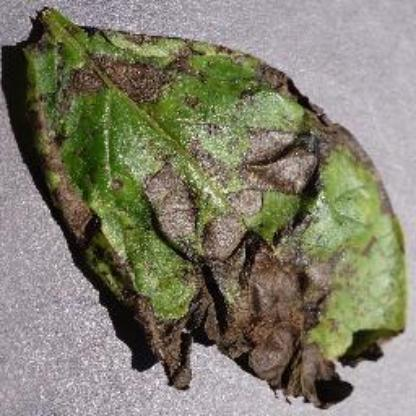Early-Blight: (17, 3, 409, 409)
